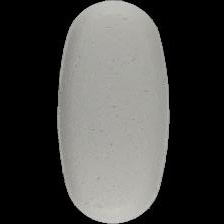0378-0473: (0, 0, 224, 224)
